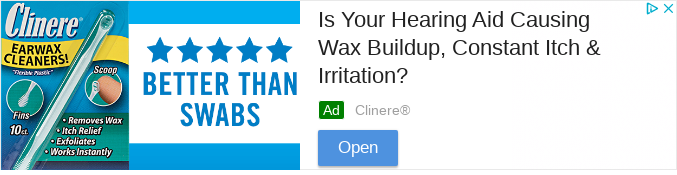fake_button: (314, 128, 409, 171), (639, 0, 674, 20)
